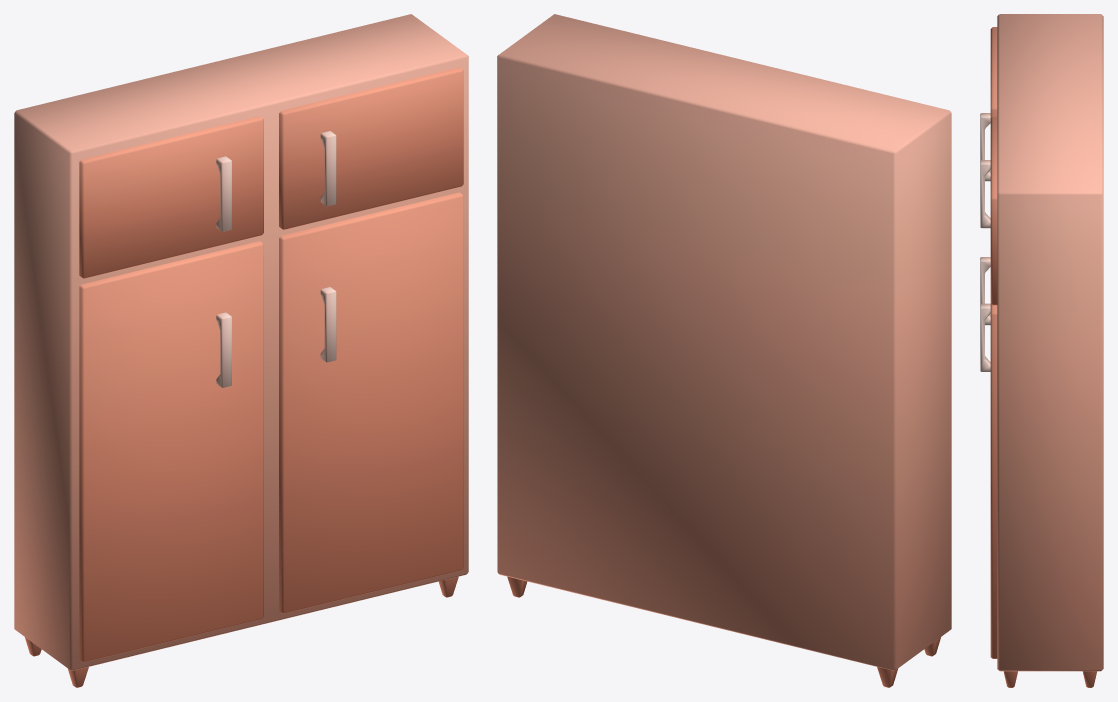
File: SM_Wardrobe_9.fbx
3 views of the same model, side by side, from view 1: azimuth 30°, elevation 25°; view 2: azimuth 150°, elevation 25°; view 3: azimuth 270°, elevation 25° (orthographic). The views are drawn at different scales.
Parts seen in each view (by area): view 1: SM_Wardrobe_9; view 2: SM_Wardrobe_9; view 3: SM_Wardrobe_9.
Part boxes in pixels (x1,y1,x2,y2): SM_Wardrobe_9: [14, 14, 468, 687]; SM_Wardrobe_9: [497, 14, 951, 687]; SM_Wardrobe_9: [980, 14, 1103, 687].
Size of the model in its own units: 181 by 235 by 52.35.
1 material, 1 textured.
